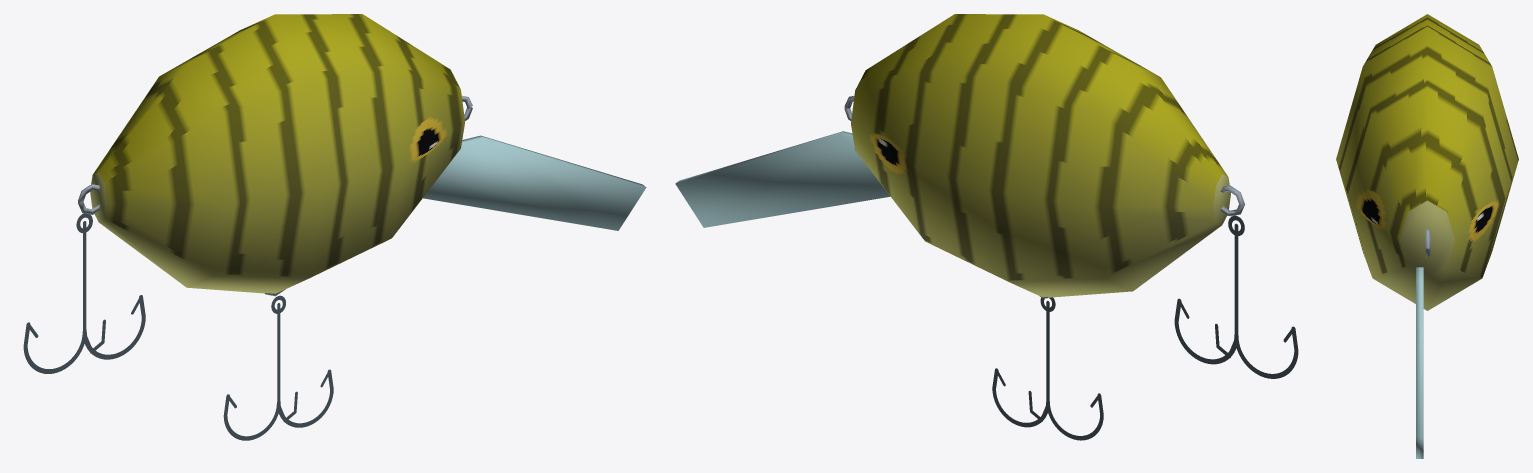
The model's file is crankbait.glb.
3 renders of one model, left to right at view 1: azimuth 30°, elevation 25°; view 2: azimuth 150°, elevation 25°; view 3: azimuth 270°, elevation 25°, orthographic. The views are drawn at different scales.
Parts seen in each view (by area): view 1: crankbait__crank_body_MESH, crankbait__Diving_lip_MESH.001, crankbait__Treble_hook_ALPHA.002, crankbait__Treble_hook_ALPHA.003; view 2: crankbait__crank_body_MESH, crankbait__Diving_lip_MESH.001, crankbait__Treble_hook_ALPHA.002, crankbait__Treble_hook_ALPHA.003; view 3: crankbait__crank_body_MESH, crankbait__Diving_lip_MESH.001.
Part boxes in pixels (x1,y1,x2,y2): crankbait__crank_body_MESH: [90, 14, 464, 293]; crankbait__Diving_lip_MESH.001: [423, 135, 646, 230]; crankbait__Treble_hook_ALPHA.002: [23, 213, 145, 373]; crankbait__Treble_hook_ALPHA.003: [223, 295, 333, 440]; crankbait__crank_body_MESH: [851, 14, 1230, 297]; crankbait__Diving_lip_MESH.001: [675, 131, 890, 227]; crankbait__Treble_hook_ALPHA.002: [1174, 215, 1298, 378]; crankbait__Treble_hook_ALPHA.003: [992, 297, 1103, 440]; crankbait__crank_body_MESH: [1336, 14, 1518, 310]; crankbait__Diving_lip_MESH.001: [1416, 267, 1423, 458].
Bounding box in the file's own units: 0.089 × 0.0579 × 0.024.
4 materials, 2 textured.
